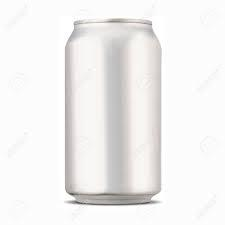Aluminum can: (57, 6, 174, 209)
